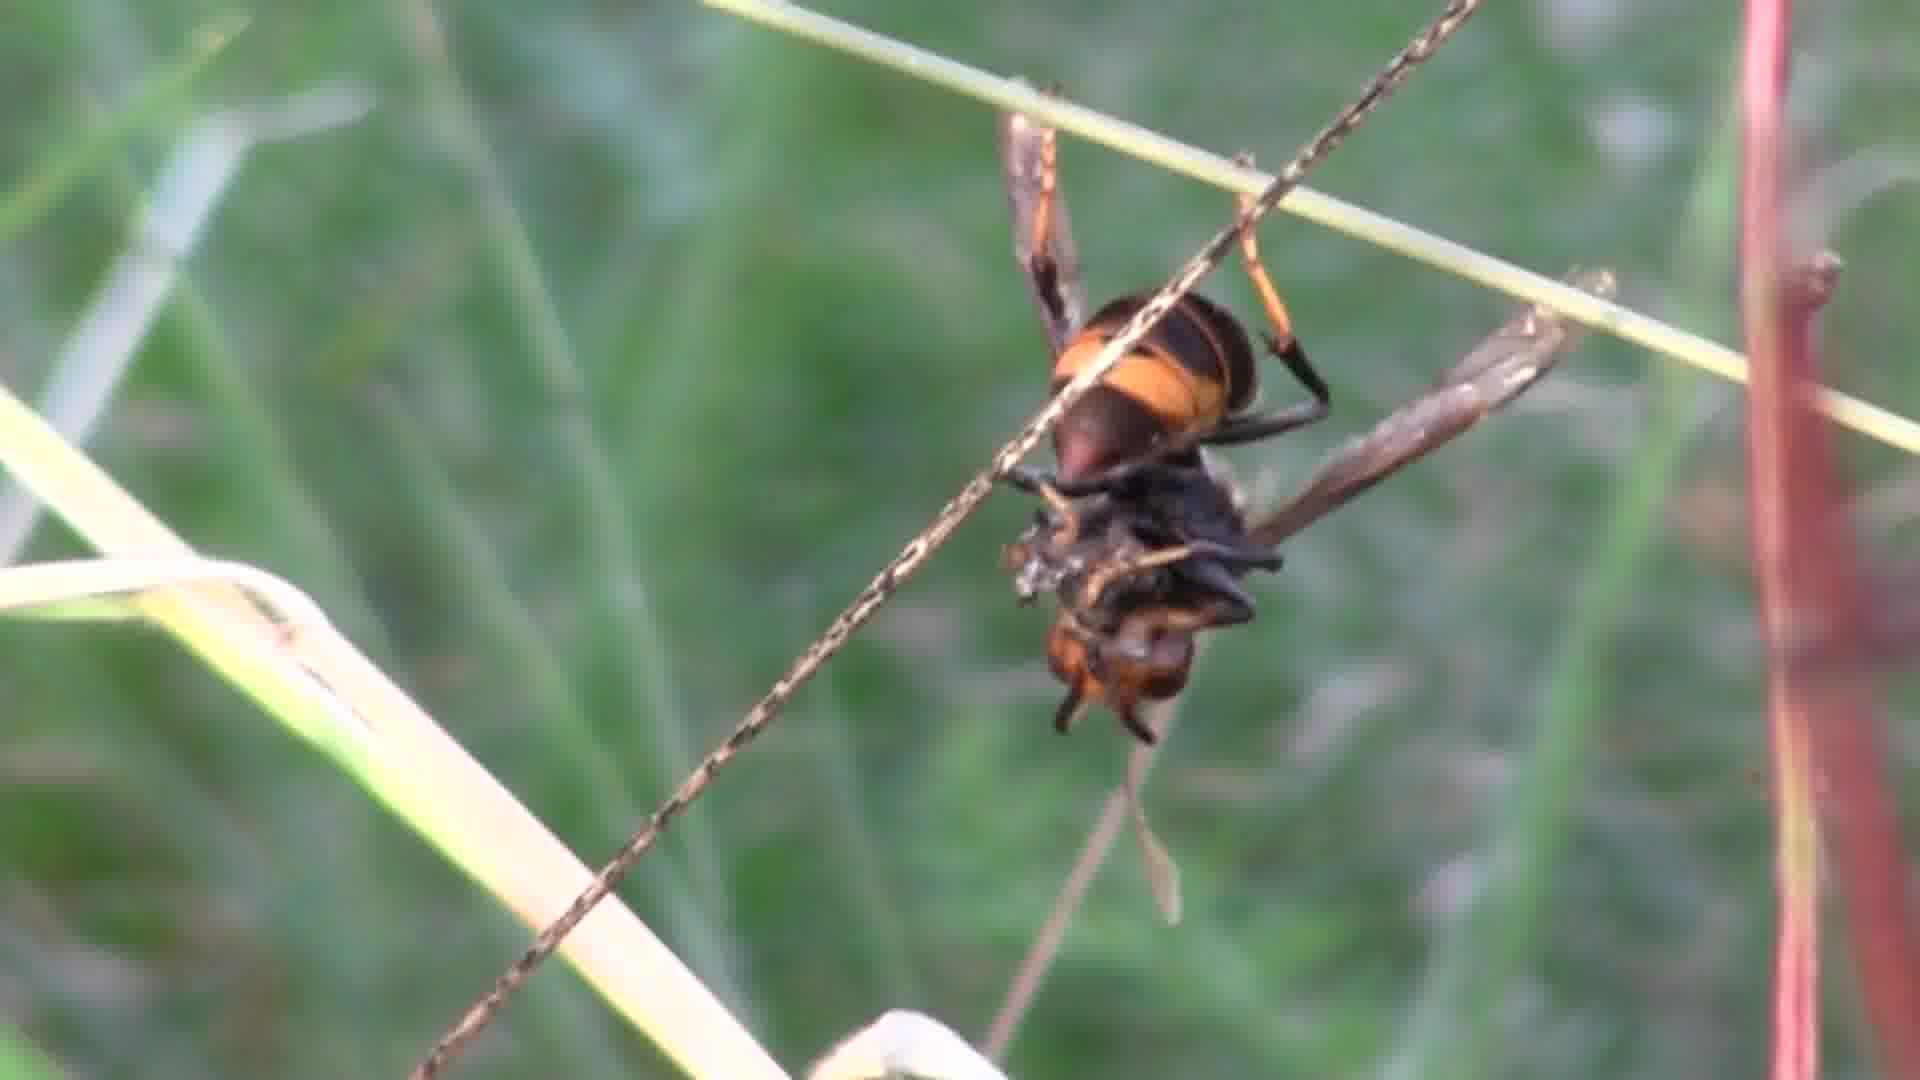hornet: (919, 67, 1341, 782)
